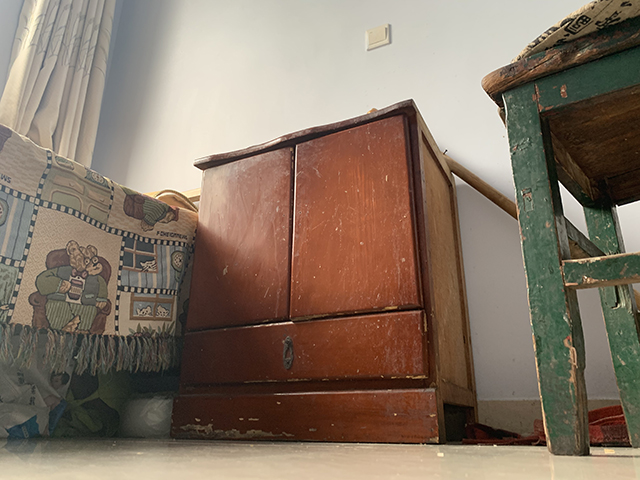bed: (1, 122, 200, 441)
cabinet: (170, 98, 480, 446)
stool: (480, 15, 640, 459)
